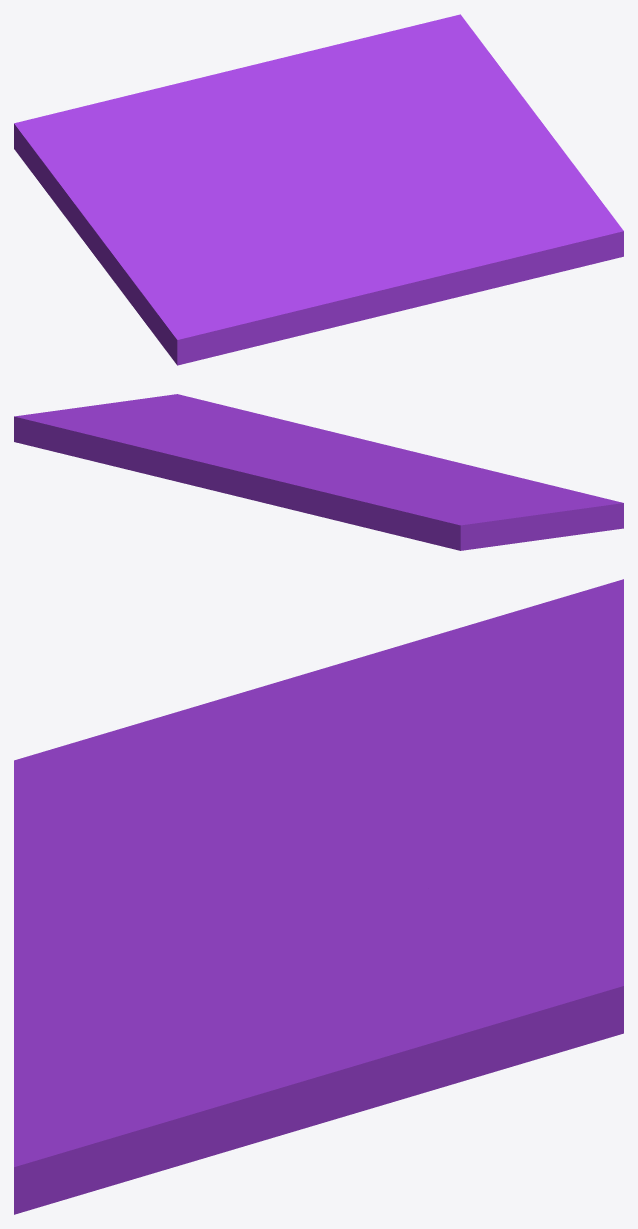
File: Window_15_chunks.fbx
3 renders of one model, top to bottom at view 1: azimuth 30°, elevation 25°; view 2: azimuth 150°, elevation 25°; view 3: azimuth 270°, elevation 25°, orthographic. The views are drawn at different scales.
Parts seen in each view (by area): view 1: Window_15_0, Window_15_1, Window_15_2, Window_15_3; view 2: Window_15_0, Window_15_3, Window_15_1, Window_15_2; view 3: Window_15_0, Window_15_2, Window_15_1, Window_15_3.
Boxes of the visible parts, x1,y1,x2,y2 form: Window_15_0: (14, 96, 326, 365); Window_15_1: (308, 166, 623, 333); Window_15_2: (301, 14, 574, 191); Window_15_3: (126, 16, 452, 166); Window_15_0: (318, 459, 623, 550); Window_15_3: (14, 418, 359, 526); Window_15_1: (129, 394, 476, 467); Window_15_2: (14, 400, 330, 462); Window_15_0: (14, 579, 623, 893); Window_15_2: (196, 854, 623, 1137); Window_15_1: (14, 882, 280, 1214); Window_15_3: (356, 681, 623, 1058).
Size of the model in its own units: 1838 by 482 by 1165.
